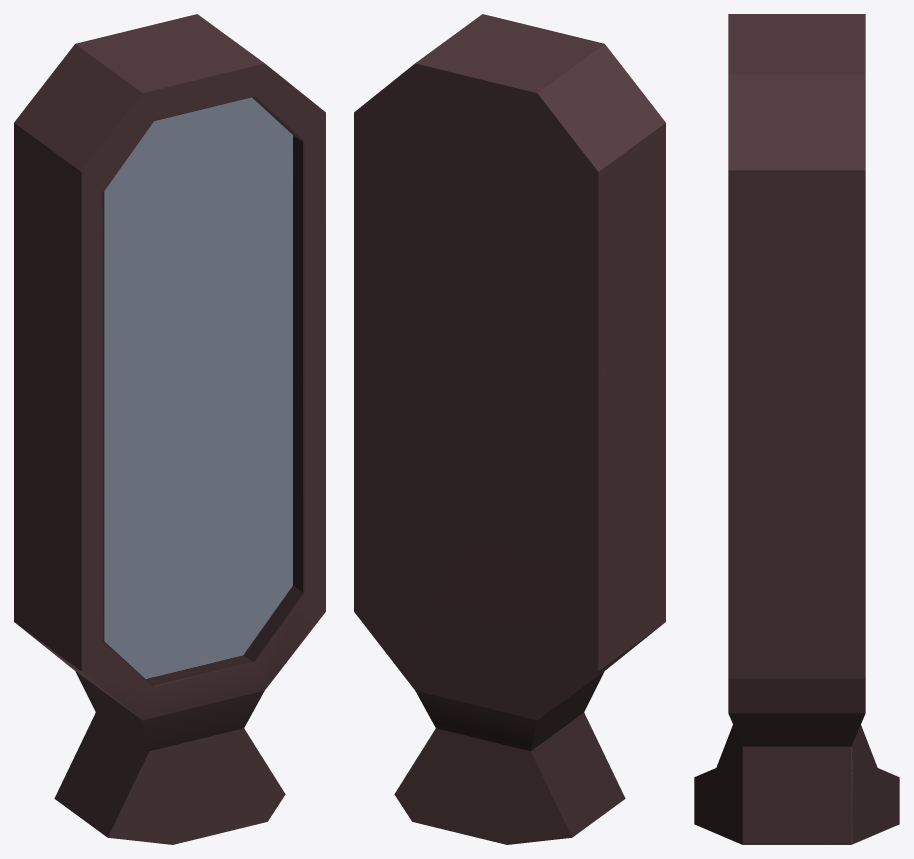
Rendered from MirrorModelFinal.fbx.
The picture shows the model from 3 angles, left to right: view 1: azimuth 30°, elevation 25°; view 2: azimuth 150°, elevation 25°; view 3: azimuth 270°, elevation 25°; orthographic projection.
Parts seen in each view (by area): view 1: MirrorModel; view 2: MirrorModel; view 3: MirrorModel.
Boxes of the visible parts, x1=… form: MirrorModel: x1=14, y1=14, x2=325, y2=844; MirrorModel: x1=354, y1=14, x2=665, y2=844; MirrorModel: x1=694, y1=14, x2=899, y2=844.
Size of the model in its own units: 2.09 by 6.07 by 1.49.
1 material, 1 textured.
